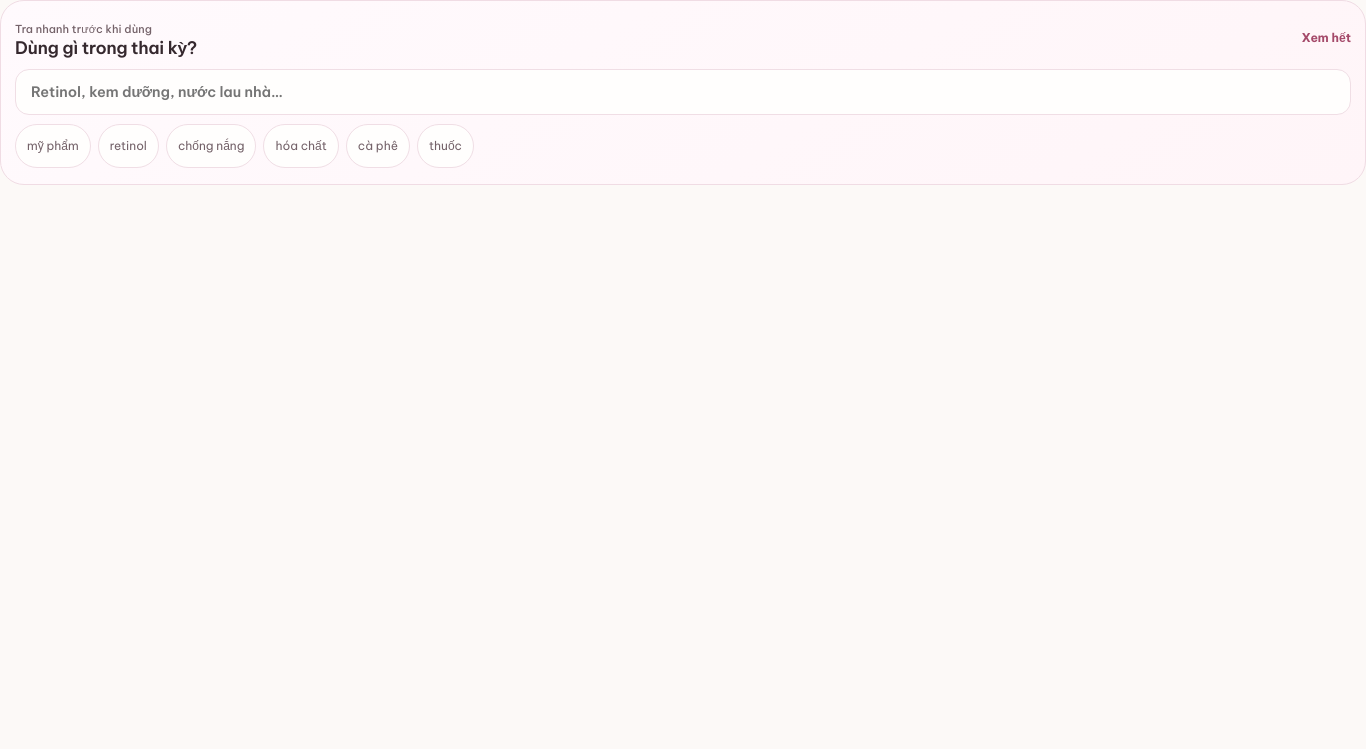
pregnancy cosmetics guidance › finds all cosmetics without silently truncating the catalogue
Click the button "mỹ phẩm" at [53, 146], box [15,124,91,168]
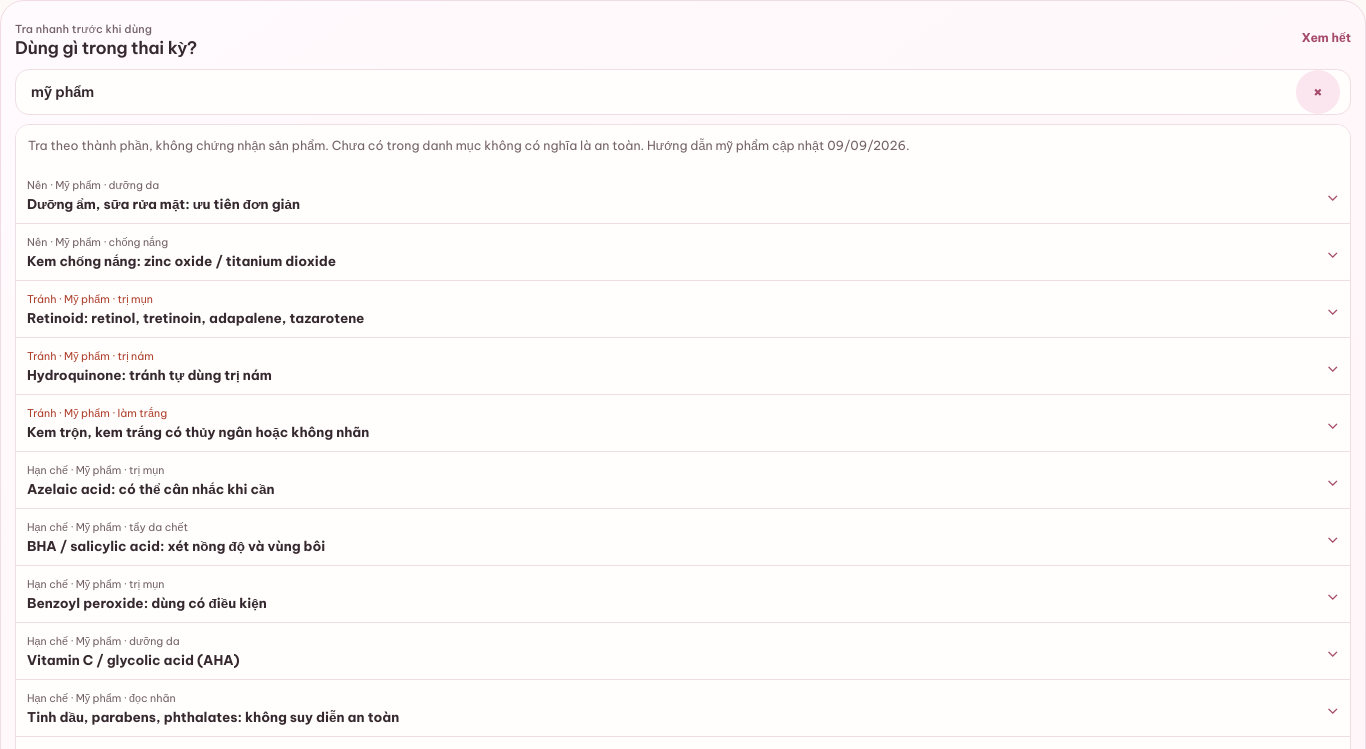
Result: the text "Retinoid: retinol, tretinoin, adapalene, tazarotene" is shown at [27,310,364,327]
Result: the text "Chưa có trong danh mục" is shown at [28,138,910,153]
